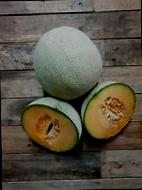Melon Ripe: (32, 26, 102, 99), (20, 96, 82, 154), (82, 83, 136, 141)
